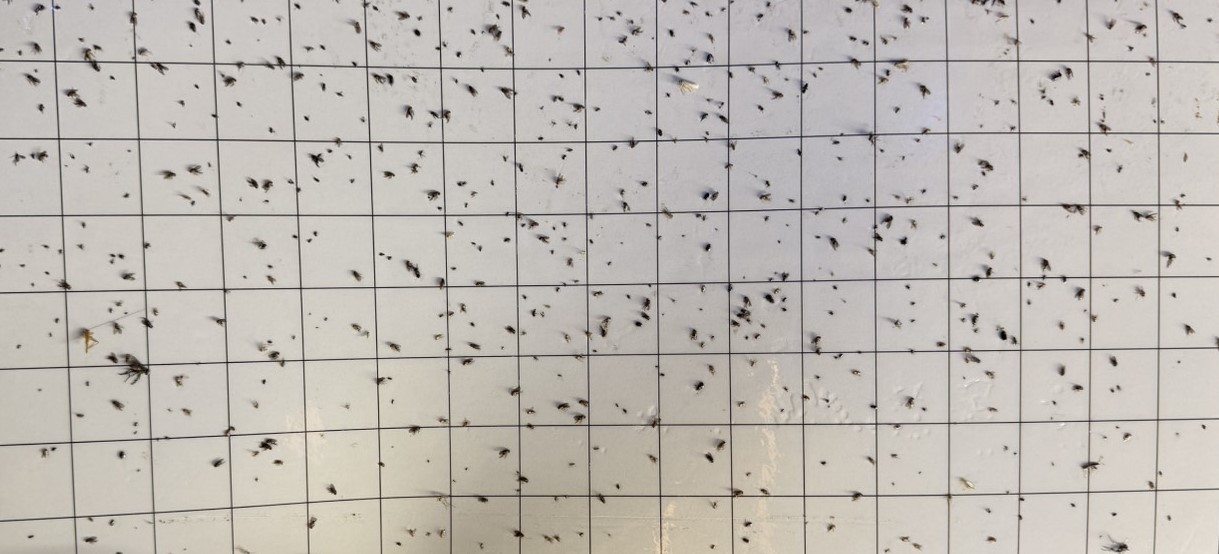fly: (119, 352, 152, 385)
test: (1100, 534, 1130, 554), (79, 328, 100, 354), (677, 77, 700, 97), (1169, 9, 1188, 30), (403, 258, 422, 279), (1160, 249, 1178, 270), (308, 152, 326, 169), (383, 338, 402, 354), (1080, 460, 1101, 474), (24, 71, 41, 87), (152, 61, 170, 76), (498, 86, 518, 99), (977, 158, 994, 173), (1095, 122, 1113, 136), (1131, 20, 1149, 34), (210, 314, 228, 328), (194, 7, 207, 26), (496, 446, 512, 461), (350, 269, 366, 284), (110, 398, 126, 413), (917, 82, 931, 99), (394, 9, 411, 23), (351, 18, 364, 36), (65, 85, 81, 99), (223, 75, 239, 89), (261, 178, 275, 194), (1144, 210, 1161, 223), (881, 213, 894, 230), (1078, 146, 1092, 161), (325, 482, 339, 497), (58, 277, 72, 292), (173, 374, 188, 388), (894, 58, 909, 72), (960, 477, 976, 490), (187, 164, 203, 177), (306, 515, 318, 532), (971, 215, 985, 229), (467, 85, 481, 99), (82, 47, 96, 61), (34, 2, 47, 17), (10, 152, 26, 164), (1172, 198, 1185, 212), (574, 412, 588, 425), (83, 533, 97, 546), (141, 316, 154, 330), (246, 176, 259, 190), (258, 440, 273, 452), (276, 55, 288, 70), (291, 71, 306, 83), (404, 105, 416, 120), (427, 189, 442, 201), (1074, 203, 1087, 216), (1084, 31, 1097, 44), (1104, 18, 1117, 31), (952, 141, 965, 154), (211, 456, 224, 469), (266, 274, 279, 287), (759, 191, 772, 204), (1134, 285, 1146, 299), (1130, 209, 1144, 221), (1049, 70, 1063, 82), (714, 439, 728, 451), (223, 424, 235, 438), (111, 322, 123, 336), (372, 73, 386, 85), (368, 39, 382, 51), (442, 109, 454, 123), (573, 101, 587, 113), (553, 174, 565, 188), (848, 57, 862, 69), (122, 271, 137, 282), (128, 11, 139, 26), (521, 5, 532, 20), (985, 534, 998, 546), (904, 396, 916, 409), (1039, 256, 1051, 269), (407, 424, 420, 436), (181, 406, 193, 419), (410, 163, 423, 175), (662, 208, 675, 220), (704, 451, 715, 465), (382, 170, 396, 181), (829, 236, 840, 250), (900, 3, 914, 14), (162, 170, 177, 180), (629, 26, 644, 36), (1061, 202, 1073, 214), (509, 386, 521, 398), (107, 352, 119, 364), (505, 324, 517, 336), (37, 151, 49, 163), (31, 42, 43, 54), (718, 113, 730, 125), (998, 329, 1009, 342), (350, 322, 363, 333), (74, 98, 87, 109), (537, 234, 550, 245), (771, 89, 784, 100), (877, 74, 890, 85), (90, 60, 101, 73), (1076, 287, 1086, 301), (512, 529, 526, 539), (515, 474, 529, 484), (557, 401, 571, 411), (386, 73, 396, 87), (527, 220, 541, 230), (787, 28, 797, 42), (902, 16, 912, 30), (468, 341, 483, 350), (1070, 95, 1081, 107), (908, 218, 919, 230), (693, 381, 705, 392), (578, 398, 590, 409), (175, 280, 187, 291), (629, 137, 640, 149), (643, 61, 655, 72), (639, 311, 651, 322), (969, 354, 982, 364), (476, 494, 489, 504), (39, 447, 48, 461), (461, 357, 475, 366), (188, 20, 197, 34), (648, 453, 659, 464), (258, 344, 269, 355), (487, 22, 498, 33), (780, 271, 791, 282), (1185, 324, 1195, 336), (851, 490, 863, 500), (984, 266, 994, 278), (971, 273, 983, 283), (1064, 66, 1074, 78), (596, 492, 606, 504), (116, 449, 126, 461), (200, 188, 212, 198), (256, 240, 268, 250), (517, 162, 527, 174), (493, 29, 503, 41), (505, 45, 515, 57), (443, 231, 455, 241), (764, 294, 776, 304), (622, 201, 632, 213), (617, 35, 629, 45), (971, 313, 980, 326), (544, 533, 553, 546), (266, 436, 279, 445), (643, 298, 652, 311), (438, 527, 446, 541), (438, 276, 446, 290), (1109, 356, 1119, 367), (1122, 431, 1133, 441), (734, 489, 745, 499), (866, 247, 876, 258), (811, 334, 822, 344), (1147, 55, 1157, 66), (921, 126, 931, 137), (1011, 37, 1021, 48), (406, 527, 417, 537), (461, 418, 472, 428), (526, 406, 536, 417), (150, 306, 160, 317), (374, 376, 385, 386), (138, 46, 148, 57), (429, 109, 440, 119), (265, 61, 276, 71), (555, 24, 566, 34), (710, 191, 720, 202), (1072, 383, 1084, 392), (708, 364, 717, 376), (91, 42, 103, 51), (334, 136, 343, 148), (867, 131, 876, 143), (651, 418, 659, 431), (899, 236, 909, 246), (273, 457, 283, 467), (251, 401, 261, 411), (226, 214, 236, 224), (1058, 365, 1067, 376), (988, 405, 999, 414), (827, 523, 836, 534), (985, 371, 996, 380), (912, 541, 923, 550), (74, 411, 85, 420), (458, 303, 467, 314), (236, 60, 245, 71), (433, 332, 444, 341), (566, 257, 575, 268), (600, 327, 609, 338), (689, 328, 698, 339), (743, 295, 752, 306), (801, 83, 810, 94), (320, 81, 328, 93), (894, 318, 903, 328), (1088, 313, 1098, 322), (812, 348, 822, 357), (277, 358, 287, 367), (182, 193, 192, 202), (270, 350, 280, 359), (376, 143, 385, 153), (334, 89, 344, 98), (469, 28, 479, 37), (593, 289, 603, 298), (724, 162, 734, 171), (700, 112, 709, 122), (706, 53, 715, 63), (936, 340, 947, 348), (872, 233, 883, 241), (107, 518, 115, 529), (438, 416, 449, 424), (475, 280, 486, 288), (305, 44, 316, 52), (1182, 152, 1189, 164), (351, 59, 358, 71), (866, 456, 875, 465), (1036, 281, 1045, 290), (903, 195, 912, 204), (526, 422, 535, 431), (49, 444, 58, 453), (267, 126, 276, 135), (88, 4, 97, 13), (250, 15, 259, 24), (457, 179, 466, 188), (575, 353, 584, 362), (602, 316, 611, 325), (731, 318, 740, 327), (1148, 480, 1156, 490), (900, 534, 910, 542), (760, 488, 770, 496), (1116, 164, 1124, 174), (1093, 224, 1101, 234), (939, 232, 947, 242), (971, 182, 979, 192), (553, 534, 561, 544), (378, 460, 386, 470), (363, 329, 371, 339), (37, 103, 45, 113), (410, 75, 418, 85), (260, 17, 268, 27), (274, 14, 284, 22), (656, 128, 664, 138), (796, 147, 804, 157), (773, 60, 781, 70), (762, 75, 770, 85), (708, 33, 715, 44), (744, 520, 752, 529), (711, 501, 719, 510), (1205, 255, 1213, 264), (1040, 274, 1048, 283), (1026, 298, 1034, 307), (988, 250, 996, 259), (801, 392, 810, 400), (737, 400, 746, 408), (980, 169, 988, 178), (963, 346, 972, 354), (893, 105, 901, 114), (344, 402, 352, 411), (395, 539, 404, 547), (87, 515, 95, 524), (15, 343, 24, 351), (53, 316, 62, 324), (77, 242, 85, 251), (302, 114, 311, 122), (19, 261, 27, 270), (143, 242, 152, 250), (108, 73, 117, 81), (82, 166, 91, 174), (312, 176, 321, 184), (294, 2, 302, 11), (452, 76, 460, 85), (561, 153, 569, 162), (618, 188, 627, 196), (704, 243, 712, 252), (1058, 321, 1065, 331), (114, 300, 124, 307), (531, 308, 538, 318), (53, 4, 63, 11), (736, 312, 746, 319), (1000, 13, 1010, 20), (742, 537, 750, 545), (1170, 291, 1178, 299), (1021, 196, 1029, 204), (1127, 44, 1135, 52), (749, 359, 757, 367), (592, 444, 600, 452), (79, 220, 87, 228), (235, 100, 243, 108), (178, 99, 186, 107), (122, 192, 130, 200), (312, 230, 320, 238), (222, 287, 230, 295), (294, 186, 302, 194), (287, 178, 295, 186), (414, 29, 422, 37), (479, 66, 487, 74), (470, 190, 478, 198), (566, 145, 574, 153), (372, 4, 380, 12), (645, 109, 653, 117), (611, 144, 619, 152), (640, 180, 648, 188), (757, 104, 765, 112), (635, 320, 643, 328), (862, 39, 870, 47), (893, 423, 902, 430), (1008, 124, 1017, 131), (841, 194, 848, 203), (1048, 98, 1055, 107), (1009, 97, 1018, 104), (992, 99, 1001, 106), (622, 407, 629, 416), (26, 533, 35, 540), (242, 273, 249, 282), (210, 112, 219, 119), (41, 243, 50, 250), (291, 233, 300, 240), (446, 310, 455, 317), (77, 37, 86, 44), (346, 153, 353, 162), (502, 154, 509, 163), (575, 68, 582, 77), (495, 12, 502, 21), (700, 285, 707, 294), (730, 142, 737, 151), (727, 71, 734, 80), (668, 29, 675, 38), (1012, 335, 1018, 345), (501, 1, 511, 7), (960, 302, 967, 310), (852, 369, 860, 376), (828, 309, 835, 317), (1026, 280, 1033, 288), (963, 356, 970, 364), (872, 223, 879, 231), (1039, 87, 1046, 95), (260, 378, 268, 385), (254, 476, 261, 484), (107, 306, 114, 314), (386, 375, 394, 382), (192, 83, 200, 90), (117, 253, 125, 260), (252, 450, 260, 457), (306, 237, 314, 244), (378, 251, 386, 258), (469, 321, 477, 328), (170, 122, 178, 129), (69, 153, 77, 160), (417, 149, 425, 156), (319, 43, 326, 51), (489, 179, 496, 187), (447, 5, 454, 13), (416, 14, 424, 21), (455, 51, 463, 58), (549, 248, 556, 256), (558, 94, 565, 102), (551, 120, 559, 127), (606, 260, 614, 267), (773, 287, 781, 294), (764, 180, 771, 188), (832, 139, 840, 146), (748, 66, 756, 73), (682, 8, 690, 15), (363, 0, 370, 8), (1061, 274, 1067, 283), (1029, 17, 1035, 26), (266, 264, 275, 270), (327, 147, 333, 156), (360, 115, 366, 124), (690, 1, 699, 7), (849, 36, 858, 42), (1101, 110, 1107, 119), (1109, 387, 1116, 394), (946, 492, 953, 499), (884, 547, 891, 554), (745, 471, 752, 478), (1174, 226, 1181, 233), (1105, 147, 1112, 154), (1112, 297, 1119, 304), (932, 261, 939, 268), (904, 284, 911, 291), (841, 217, 848, 224), (831, 284, 838, 291), (1206, 16, 1213, 23), (914, 137, 921, 144), (1099, 94, 1106, 101), (1151, 118, 1158, 125), (659, 371, 666, 378), (424, 531, 431, 538), (389, 398, 396, 405), (37, 386, 44, 393), (131, 420, 138, 427), (109, 252, 116, 259), (386, 255, 393, 262), (436, 205, 443, 212), (558, 72, 565, 79), (597, 16, 604, 23), (588, 238, 595, 245), (585, 330, 592, 337), (517, 212, 524, 219), (695, 212, 702, 219), (754, 333, 761, 340), (703, 192, 710, 199), (740, 307, 747, 314), (685, 59, 692, 66), (609, 15, 616, 22), (757, 13, 764, 20), (881, 38, 888, 45), (985, 8, 992, 15), (436, 495, 443, 502), (1167, 514, 1173, 522), (1082, 307, 1088, 315), (553, 494, 559, 502), (84, 380, 90, 388), (291, 334, 297, 342), (266, 338, 274, 344), (47, 331, 53, 339), (43, 270, 51, 276), (206, 160, 212, 168), (437, 312, 445, 318), (444, 346, 452, 352), (29, 152, 35, 160), (224, 39, 232, 45), (348, 178, 356, 184), (434, 45, 442, 51), (442, 41, 448, 49), (503, 237, 511, 243), (476, 246, 484, 252), (552, 95, 558, 103), (595, 105, 601, 113), (727, 285, 733, 293), (788, 198, 796, 204), (814, 234, 822, 240), (674, 65, 680, 73), (845, 7, 853, 13), (1111, 511, 1117, 518), (1070, 502, 1076, 509), (1018, 496, 1025, 502), (891, 452, 897, 459), (921, 406, 927, 413), (710, 544, 717, 550), (1179, 192, 1186, 198), (864, 197, 871, 203), (824, 396, 830, 403), (1144, 71, 1151, 77), (977, 123, 984, 129), (952, 194, 959, 200), (894, 193, 900, 200), (1159, 119, 1166, 125), (879, 147, 885, 154), (578, 531, 584, 538), (167, 407, 173, 414), (135, 467, 142, 473), (322, 316, 329, 322), (109, 258, 115, 265), (450, 265, 457, 271), (522, 294, 529, 300), (479, 542, 485, 549), (33, 67, 39, 74), (17, 50, 23, 57), (188, 42, 194, 49), (537, 135, 544, 141), (463, 202, 470, 208), (458, 220, 464, 227), (427, 121, 433, 128), (555, 286, 561, 293), (539, 104, 545, 111), (665, 91, 671, 98), (532, 355, 539, 361), (699, 341, 705, 348), (760, 323, 767, 329), (781, 296, 787, 303), (814, 210, 821, 216), (704, 136, 710, 143), (672, 137, 678, 144), (706, 97, 713, 103), (812, 72, 818, 79), (1078, 152, 1084, 159), (803, 520, 809, 527), (0, 46, 6, 53), (1116, 384, 1121, 392), (1052, 399, 1057, 407), (870, 404, 878, 409), (568, 461, 576, 466), (702, 214, 707, 222), (1079, 337, 1085, 343), (1158, 470, 1164, 476), (985, 508, 991, 514), (1050, 461, 1056, 467), (1175, 431, 1181, 437), (910, 300, 916, 306), (910, 318, 916, 324), (815, 374, 821, 380), (961, 317, 967, 323), (783, 386, 789, 392), (779, 407, 785, 413), (1142, 32, 1148, 38), (1040, 94, 1046, 100), (607, 532, 613, 538), (57, 248, 63, 254), (190, 200, 196, 206), (238, 197, 244, 203), (131, 55, 137, 61), (573, 123, 579, 129), (567, 121, 573, 127), (544, 303, 550, 309), (540, 312, 546, 318), (521, 330, 527, 336), (564, 334, 570, 340), (562, 221, 568, 227), (764, 215, 770, 221), (782, 307, 788, 313), (704, 130, 710, 136), (818, 66, 824, 72), (784, 77, 790, 83), (803, 29, 809, 35), (766, 1, 772, 7), (721, 7, 727, 13), (920, 17, 926, 23), (1201, 423, 1206, 430), (1018, 514, 1023, 521), (820, 460, 827, 465), (974, 328, 979, 335), (901, 154, 906, 161), (614, 483, 621, 488), (132, 429, 137, 436), (464, 466, 469, 473), (263, 198, 270, 203), (127, 147, 132, 154), (505, 211, 510, 218), (573, 279, 580, 284), (645, 222, 652, 227), (885, 69, 890, 76), (980, 0, 987, 5), (971, 0, 978, 5), (0, 247, 5, 254), (194, 1, 202, 5), (998, 0, 1006, 4), (1102, 435, 1108, 440), (909, 349, 915, 354), (857, 349, 862, 355), (826, 404, 832, 409), (921, 188, 926, 194), (123, 310, 128, 316), (87, 141, 93, 146), (314, 325, 320, 330), (307, 311, 313, 316), (547, 57, 553, 62), (615, 402, 620, 408), (626, 294, 631, 300), (562, 281, 567, 287), (520, 223, 526, 228), (551, 226, 557, 231), (656, 235, 662, 240), (589, 213, 594, 219), (768, 277, 774, 282), (746, 318, 751, 324), (829, 271, 835, 276), (837, 156, 843, 161), (616, 10, 622, 15), (630, 19, 635, 25), (892, 35, 897, 41), (1003, 51, 1009, 56), (64, 163, 69, 169), (842, 299, 847, 305), (1115, 425, 1120, 430), (1013, 451, 1018, 456), (1004, 445, 1009, 450), (1005, 490, 1010, 495), (962, 375, 967, 380), (917, 470, 922, 475), (891, 481, 896, 486), (1050, 415, 1055, 420), (834, 354, 839, 359), (471, 241, 476, 246), (558, 373, 563, 378), (593, 349, 598, 354), (516, 488, 521, 493), (812, 278, 817, 283), (839, 132, 844, 137), (720, 101, 725, 106), (705, 12, 710, 17), (256, 38, 261, 43), (164, 435, 168, 441), (426, 458, 430, 464), (562, 237, 568, 241), (745, 335, 749, 341), (818, 207, 824, 211), (691, 48, 695, 54), (1057, 0, 1063, 4), (1177, 360, 1182, 364), (30, 282, 35, 286), (500, 345, 504, 350), (699, 308, 704, 312), (619, 241, 624, 245), (681, 234, 686, 238), (839, 353, 843, 358), (742, 275, 746, 280), (481, 30, 486, 34), (352, 512, 356, 517), (452, 479, 457, 483), (390, 445, 395, 449), (240, 0, 245, 4), (319, 72, 323, 77), (754, 174, 758, 179), (730, 0, 734, 5), (334, 0, 340, 3), (648, 283, 652, 287), (711, 335, 715, 339), (777, 240, 781, 244), (774, 271, 778, 275), (785, 223, 789, 227), (718, 105, 722, 109), (651, 36, 655, 40), (926, 16, 930, 20), (655, 365, 660, 368), (672, 299, 676, 302), (661, 313, 665, 316), (714, 227, 718, 230)
